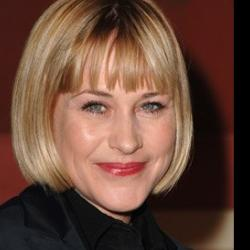face: (10, 3, 195, 218)
